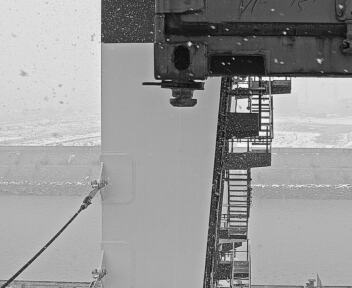twist_lock_1: (191, 147, 250, 195)
